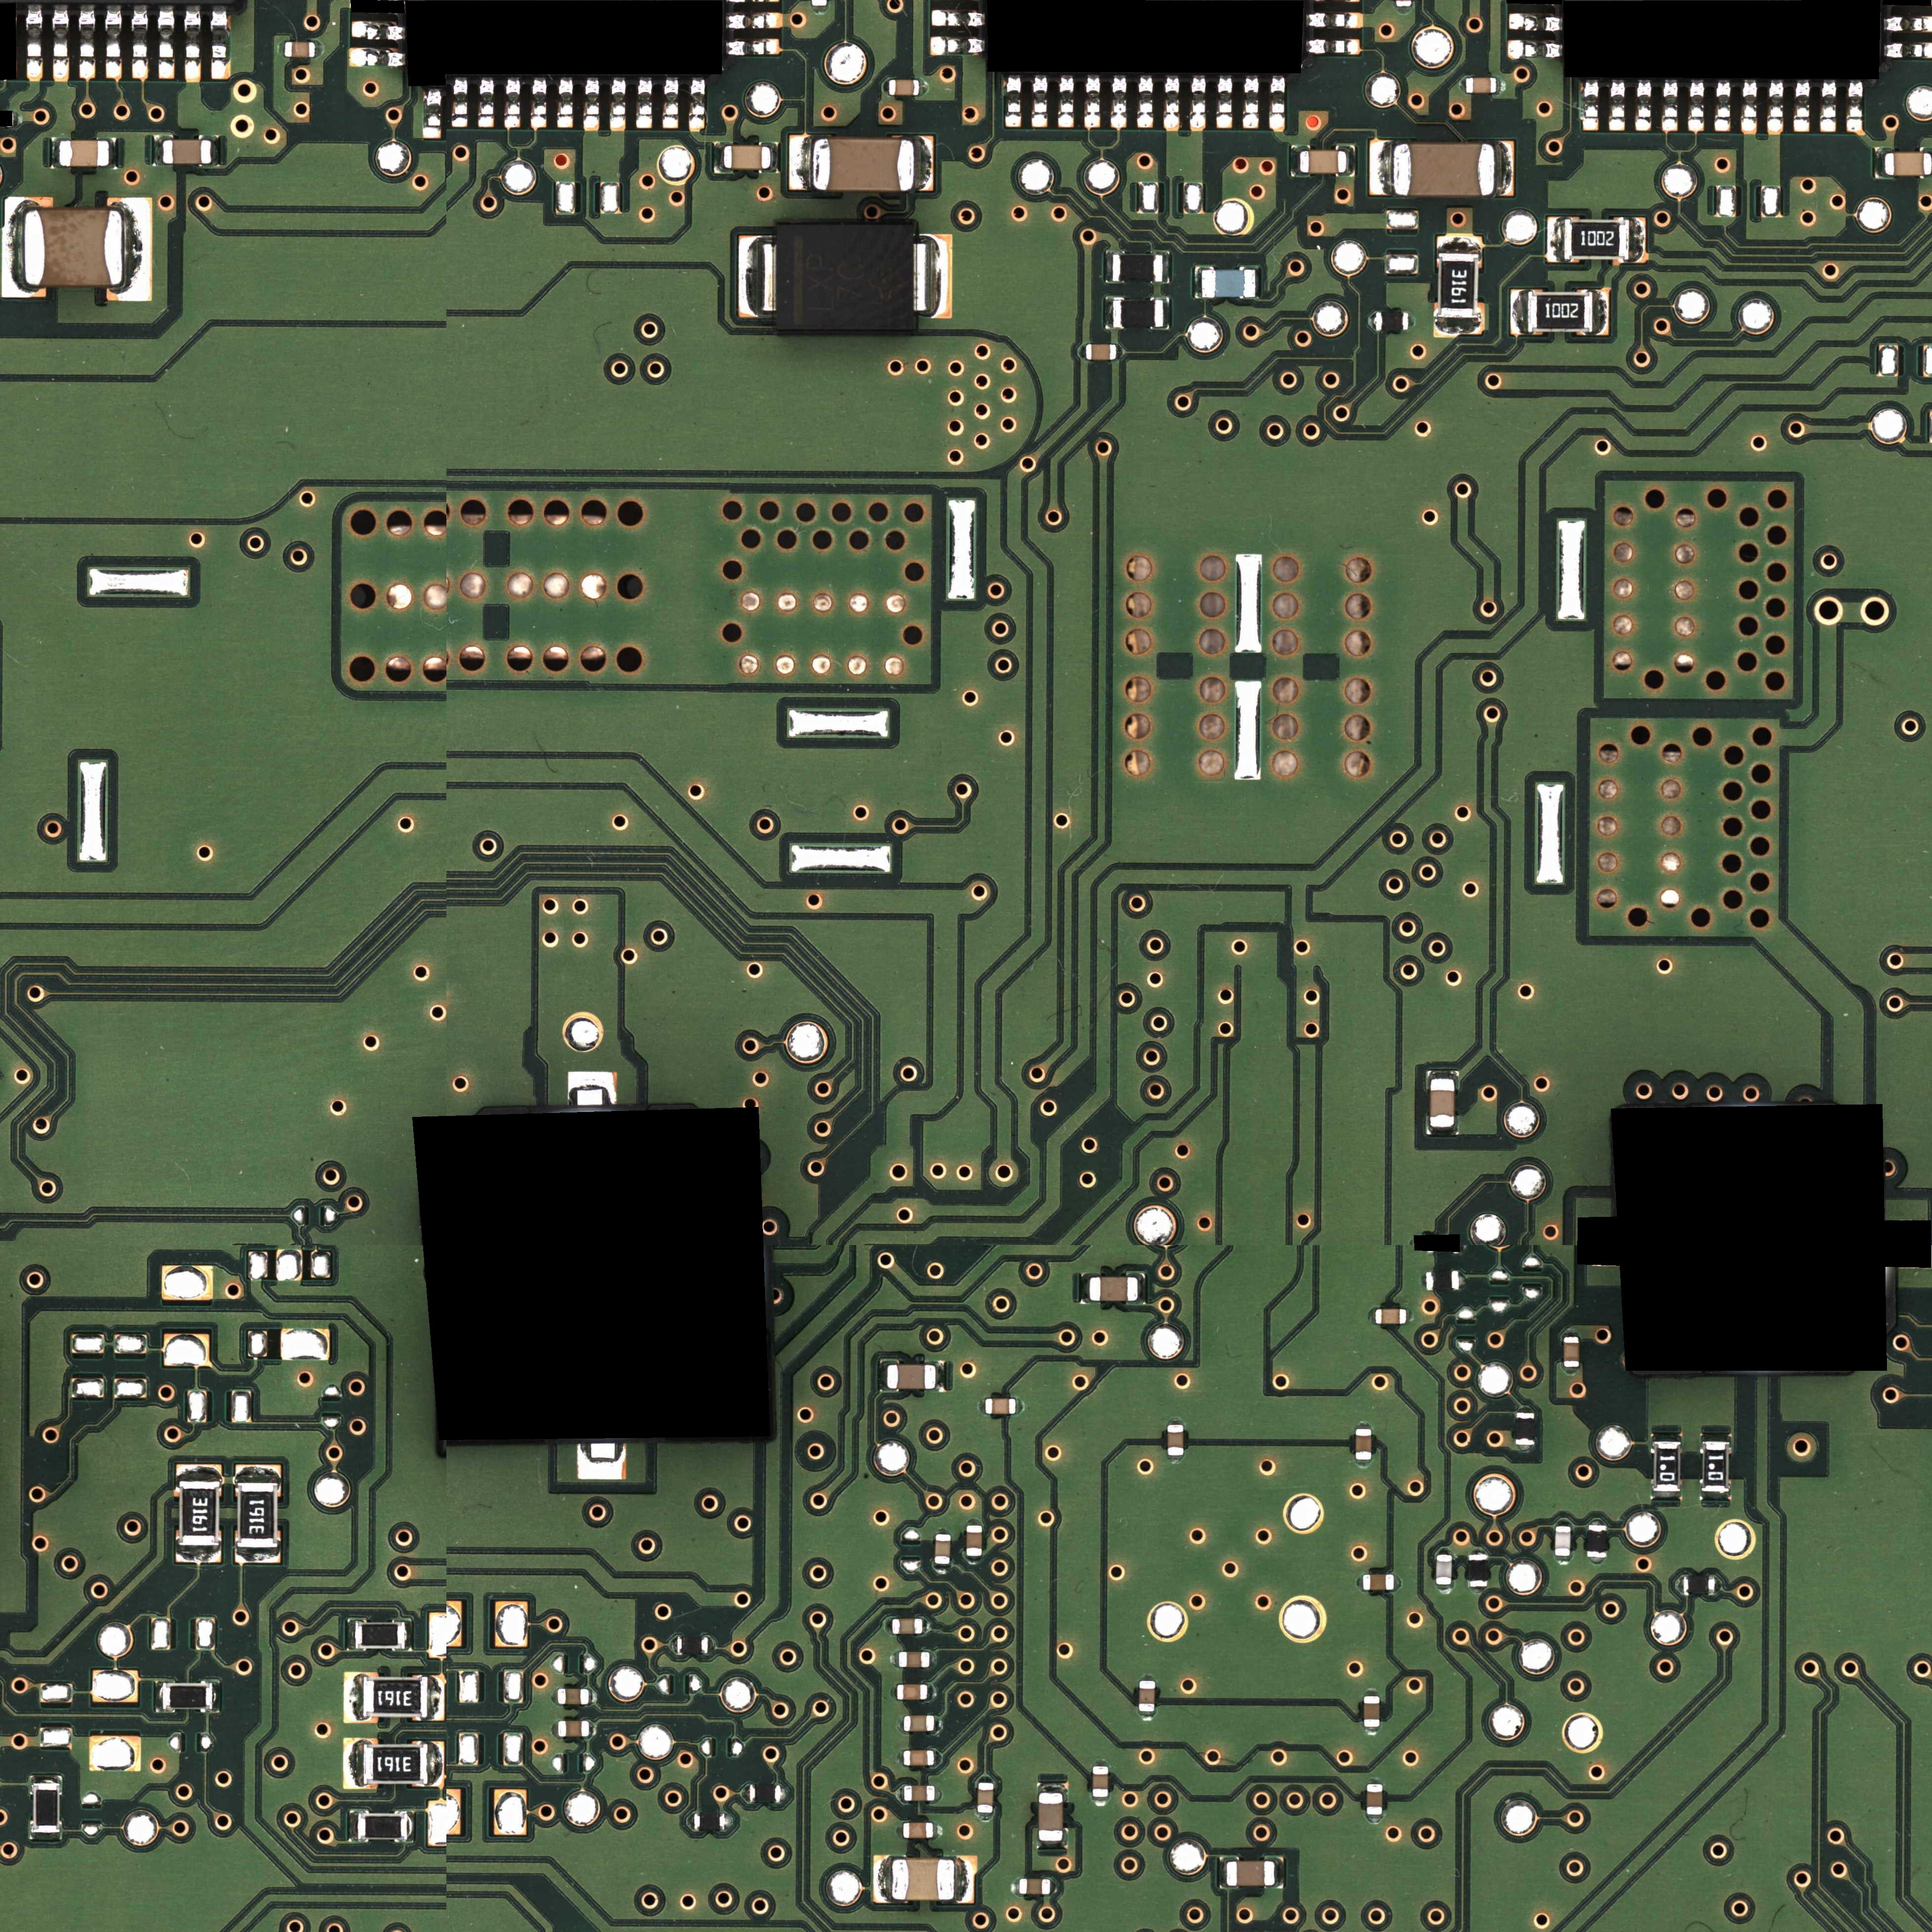Package: (777, 223, 913, 331), (24, 209, 124, 289), (1394, 143, 1495, 196), (813, 138, 914, 191), (1437, 253, 1479, 318), (1528, 291, 1594, 332), (1564, 219, 1629, 260), (237, 1483, 278, 1547), (179, 1481, 219, 1546), (363, 1744, 428, 1785), (363, 1678, 428, 1718), (891, 1859, 954, 1900), (1202, 269, 1256, 297), (1113, 299, 1163, 328), (1112, 254, 1162, 281), (59, 141, 109, 167), (162, 1684, 212, 1710), (1703, 1442, 1729, 1492), (358, 1814, 407, 1839), (33, 1783, 59, 1833), (355, 1622, 405, 1648), (1654, 1442, 1680, 1491), (1226, 1861, 1275, 1886), (887, 1364, 936, 1389), (1089, 1276, 1138, 1302), (163, 140, 211, 164), (1430, 1079, 1455, 1127), (1039, 1793, 1063, 1841), (724, 145, 770, 169), (1300, 150, 1347, 173), (1886, 152, 1931, 176), (1587, 1525, 1607, 1557), (1469, 1554, 1488, 1587), (1682, 1576, 1715, 1595), (1375, 312, 1408, 331), (1426, 1271, 1459, 1290), (1516, 1412, 1535, 1445), (694, 1813, 726, 1831), (750, 1785, 781, 1803), (676, 1637, 708, 1654), (558, 1688, 589, 1704), (1355, 1429, 1372, 1460), (1363, 1696, 1380, 1727), (1167, 1424, 1184, 1455), (899, 1651, 929, 1668), (966, 1525, 982, 1556), (904, 1715, 934, 1732), (1366, 1784, 1383, 1815), (1139, 1681, 1155, 1712), (1363, 1574, 1394, 1591), (1019, 1879, 1050, 1894), (889, 80, 919, 96), (558, 1721, 589, 1737), (904, 1785, 935, 1801), (904, 1750, 934, 1766), (1086, 344, 1116, 360), (1466, 77, 1497, 93), (1093, 1767, 1109, 1797), (892, 1618, 922, 1634), (897, 1684, 927, 1700), (1436, 1554, 1452, 1585), (977, 1783, 993, 1813), (1564, 1337, 1579, 1367), (1375, 1309, 1406, 1324), (285, 42, 315, 57), (935, 1534, 951, 1564), (1555, 1526, 1571, 1556), (903, 1823, 933, 1838), (985, 1399, 1015, 1414)
Solder: (914, 234, 953, 318), (738, 236, 776, 317), (124, 197, 151, 301), (3, 196, 22, 298), (579, 1443, 625, 1479), (569, 1071, 617, 1105), (211, 5, 231, 80), (1370, 140, 1392, 196), (27, 4, 43, 81), (106, 4, 122, 81), (790, 135, 811, 191), (80, 3, 96, 80), (132, 5, 147, 82), (158, 5, 174, 82), (185, 4, 200, 81), (53, 4, 68, 81), (349, 48, 406, 67), (1495, 141, 1514, 196), (930, 37, 985, 55), (352, 21, 405, 40), (343, 1738, 363, 1789), (915, 136, 933, 191), (955, 1855, 975, 1904), (1508, 40, 1562, 58), (344, 1672, 363, 1723), (1509, 13, 1562, 31), (1307, 12, 1363, 29), (1433, 318, 1484, 336), (932, 10, 985, 27), (727, 13, 783, 29), (478, 77, 494, 128), (636, 78, 653, 129), (663, 78, 679, 129), (727, 39, 780, 55), (1307, 39, 1360, 55), (424, 89, 441, 138), (583, 77, 599, 131), (689, 78, 705, 132), (873, 1855, 891, 1903), (452, 77, 468, 128), (505, 78, 521, 129), (531, 78, 547, 129), (557, 78, 574, 129), (235, 1465, 281, 1483), (1741, 81, 1757, 134), (1636, 80, 1652, 131), (1663, 80, 1679, 132), (1714, 81, 1730, 132), (1820, 81, 1836, 132), (1794, 81, 1810, 132), (1768, 81, 1784, 134), (1436, 235, 1482, 253), (610, 79, 626, 131), (1846, 81, 1862, 133), (1059, 74, 1074, 128), (1190, 76, 1205, 129), (1138, 75, 1153, 129), (1270, 76, 1285, 129), (1583, 79, 1598, 131), (1609, 80, 1625, 131), (1688, 80, 1703, 132), (1510, 290, 1527, 336), (176, 1546, 222, 1563), (428, 1675, 445, 1721), (1006, 74, 1020, 127), (1032, 74, 1047, 128), (1085, 75, 1100, 128), (1164, 75, 1179, 129), (1111, 75, 1126, 128), (1217, 75, 1231, 129), (1244, 75, 1258, 129), (428, 1740, 444, 1787), (1594, 289, 1609, 336), (176, 1464, 222, 1481), (1630, 217, 1646, 263), (1547, 217, 1563, 263), (235, 1548, 281, 1563), (1885, 16, 1932, 31), (1886, 44, 1932, 57), (1874, 146, 1885, 180), (1037, 1782, 1068, 1792), (1079, 1274, 1089, 1303), (1275, 1857, 1284, 1888), (1700, 1492, 1731, 1500), (349, 1810, 358, 1842), (347, 1619, 355, 1651), (1651, 1433, 1683, 1441), (1700, 1433, 1732, 1441), (715, 143, 724, 172), (1105, 297, 1113, 328), (1426, 1127, 1456, 1136), (1428, 1070, 1458, 1078), (30, 1833, 61, 1841), (1194, 266, 1202, 298), (879, 1360, 887, 1390), (936, 1361, 944, 1391), (1138, 1274, 1147, 1304), (154, 135, 162, 166), (212, 1681, 220, 1711), (1036, 1841, 1067, 1849), (1651, 1492, 1681, 1499), (31, 1774, 61, 1782), (1105, 252, 1112, 282), (771, 143, 778, 172), (51, 138, 59, 168), (405, 1620, 413, 1650), (1163, 252, 1170, 282), (1219, 1857, 1226, 1887), (407, 1811, 414, 1841), (1347, 147, 1354, 175), (1292, 147, 1300, 175), (155, 1682, 163, 1711), (1164, 298, 1171, 329), (109, 138, 115, 169), (1255, 268, 1260, 298), (811, 7, 830, 15), (211, 136, 217, 165), (14, 110, 23, 129), (1395, 7, 1413, 15), (316, 40, 324, 58), (919, 79, 928, 95), (1497, 78, 1505, 93), (1676, 1576, 1683, 1594), (1515, 1445, 1535, 1452), (725, 1813, 733, 1830), (1555, 1518, 1571, 1526), (1436, 1585, 1452, 1593), (1459, 1272, 1466, 1290), (1589, 1518, 1606, 1526), (1368, 312, 1375, 331), (1588, 1557, 1606, 1564), (1419, 1271, 1426, 1290), (1563, 1329, 1579, 1337), (1555, 1556, 1571, 1564), (742, 1785, 749, 1802), (1015, 1398, 1023, 1414), (277, 40, 284, 58), (551, 1721, 558, 1737), (934, 1564, 950, 1572), (1394, 1574, 1401, 1591), (1408, 313, 1415, 330), (1469, 1547, 1487, 1554), (933, 1823, 941, 1838), (1167, 1418, 1183, 1425), (1366, 1815, 1382, 1823), (1563, 1367, 1579, 1375), (1437, 1547, 1452, 1554), (1368, 1307, 1375, 1324), (1092, 1797, 1109, 1804), (1715, 1576, 1722, 1594), (885, 1619, 892, 1634), (891, 1651, 899, 1667), (1406, 1308, 1413, 1324), (978, 1398, 985, 1414), (1167, 1455, 1184, 1462), (1012, 1879, 1019, 1895), (1355, 1460, 1372, 1467), (966, 1519, 982, 1526), (1356, 1574, 1363, 1591), (1139, 1711, 1155, 1718), (966, 1556, 983, 1563), (1469, 1587, 1487, 1593), (927, 1684, 934, 1700), (780, 1786, 787, 1802), (551, 1689, 558, 1704), (1355, 1422, 1371, 1429), (1516, 1406, 1534, 1412), (929, 1652, 936, 1667), (1079, 344, 1086, 360), (1116, 344, 1123, 359), (978, 1776, 993, 1783), (1364, 1690, 1379, 1696), (1093, 1760, 1108, 1767), (1459, 78, 1466, 93), (687, 1813, 694, 1830), (934, 1750, 941, 1766), (1050, 1879, 1057, 1895), (934, 1716, 940, 1732), (1367, 1778, 1383, 1784), (1364, 1727, 1380, 1734), (890, 1685, 897, 1699), (934, 1786, 941, 1801), (897, 1716, 904, 1731), (935, 1528, 951, 1535), (898, 1750, 904, 1765), (1140, 1675, 1155, 1681), (671, 1637, 676, 1653), (709, 1637, 715, 1653), (882, 80, 889, 95), (589, 1721, 595, 1737), (977, 1813, 993, 1819), (589, 1690, 595, 1705), (923, 1619, 929, 1634), (898, 1823, 903, 1838), (899, 1786, 904, 1801)
